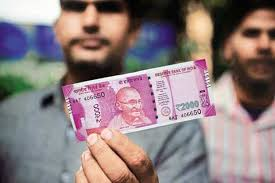twoThousand: (82, 88, 209, 130)
